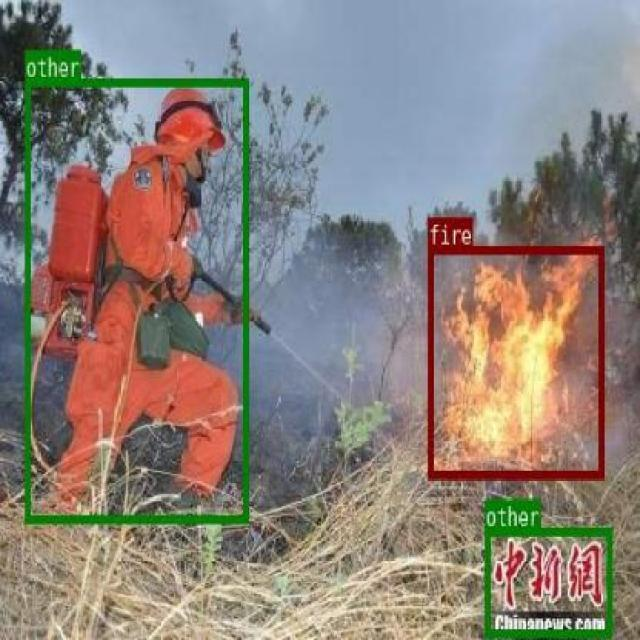Fire: (427, 244, 604, 476)
